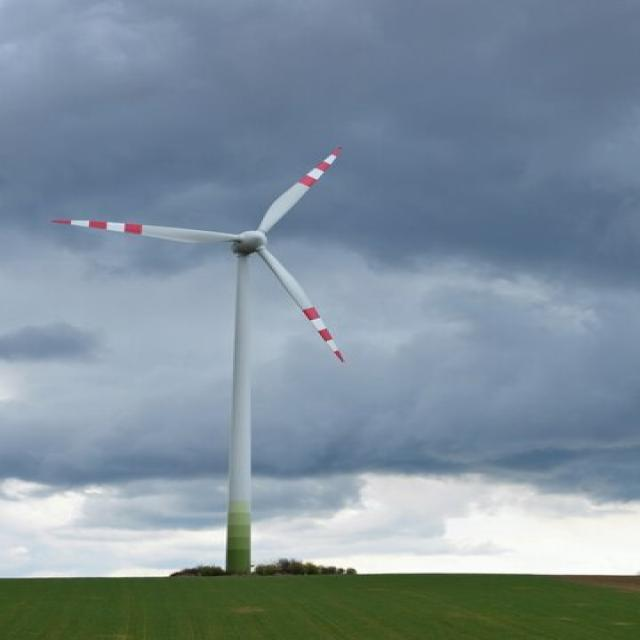solid-blade: (257, 246, 343, 361), (259, 146, 341, 232), (52, 221, 240, 242)
wind-turbine: (52, 148, 342, 574)
